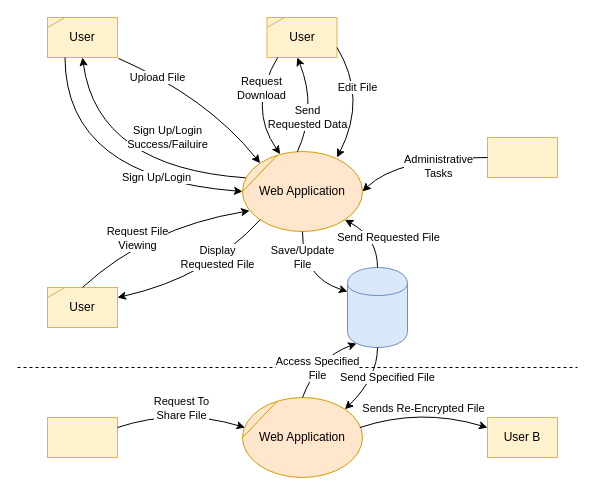
This 596x495 diagram has some shape labels left out. Each missing label, with the centre of its shape:
Admin: the point at 522,157
File System Database: the point at 377,307
User A: the point at 82,437
